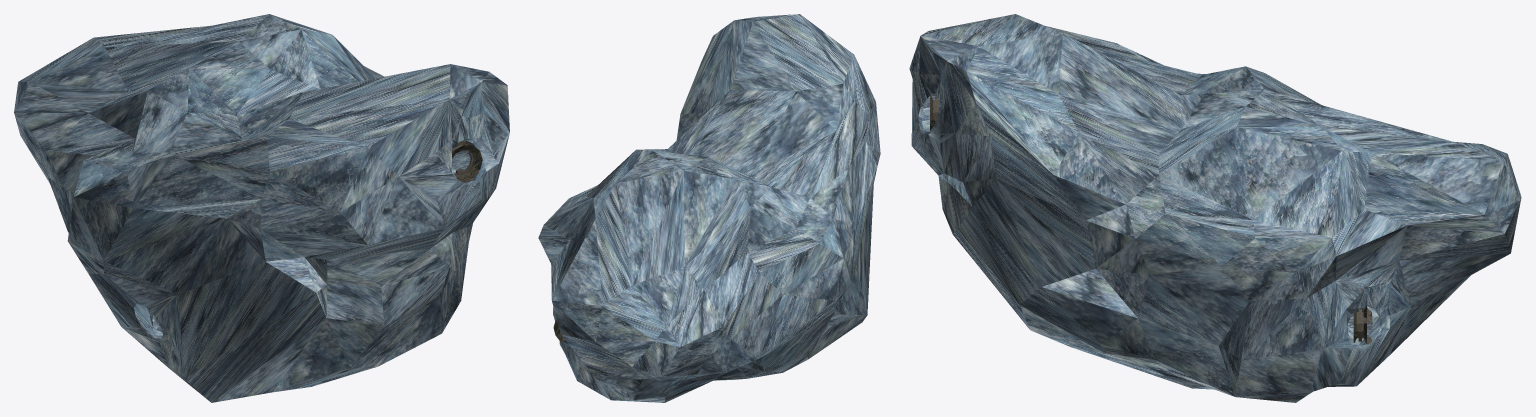
File: CO_BASE_ICE_LARGE02.fbx
3 renders of one model, left to right at view 1: azimuth 30°, elevation 25°; view 2: azimuth 150°, elevation 25°; view 3: azimuth 270°, elevation 25°, orthographic. The views are drawn at different scales.
Visible parts, largest first — view 1: CO_BASE_ICE_LARGE02_ms3d_mo; view 2: CO_BASE_ICE_LARGE02_ms3d_mo; view 3: CO_BASE_ICE_LARGE02_ms3d_mo.
Boxes of the visible parts, box(x1,y1,x2,y2) form: CO_BASE_ICE_LARGE02_ms3d_mo: box(14, 14, 509, 402); CO_BASE_ICE_LARGE02_ms3d_mo: box(538, 14, 880, 402); CO_BASE_ICE_LARGE02_ms3d_mo: box(909, 14, 1521, 402).
Size of the model in its own units: 465857 by 464755 by 732990.
